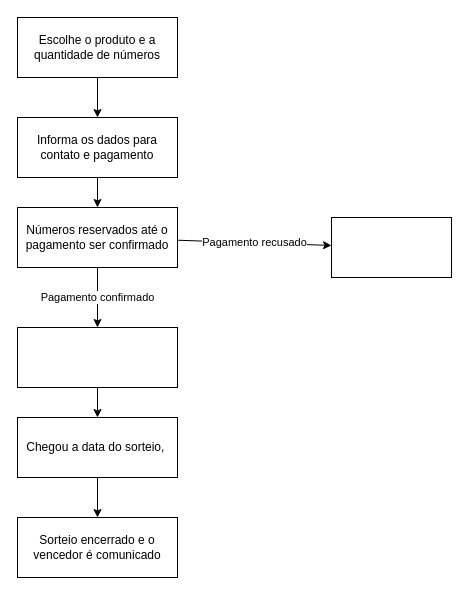
Some shapes in this 469 by 595 pixel diagram are drawn without their labels. The box of each missing label's shape, as (x1, y1, x2, y2) in pixels:
Números escolhidos voltam a ficar disponíveis: (330, 216, 452, 278)
É enviado um comunicado via e-mail com os detalhes do pedido e data do sorteio: (16, 326, 178, 388)
